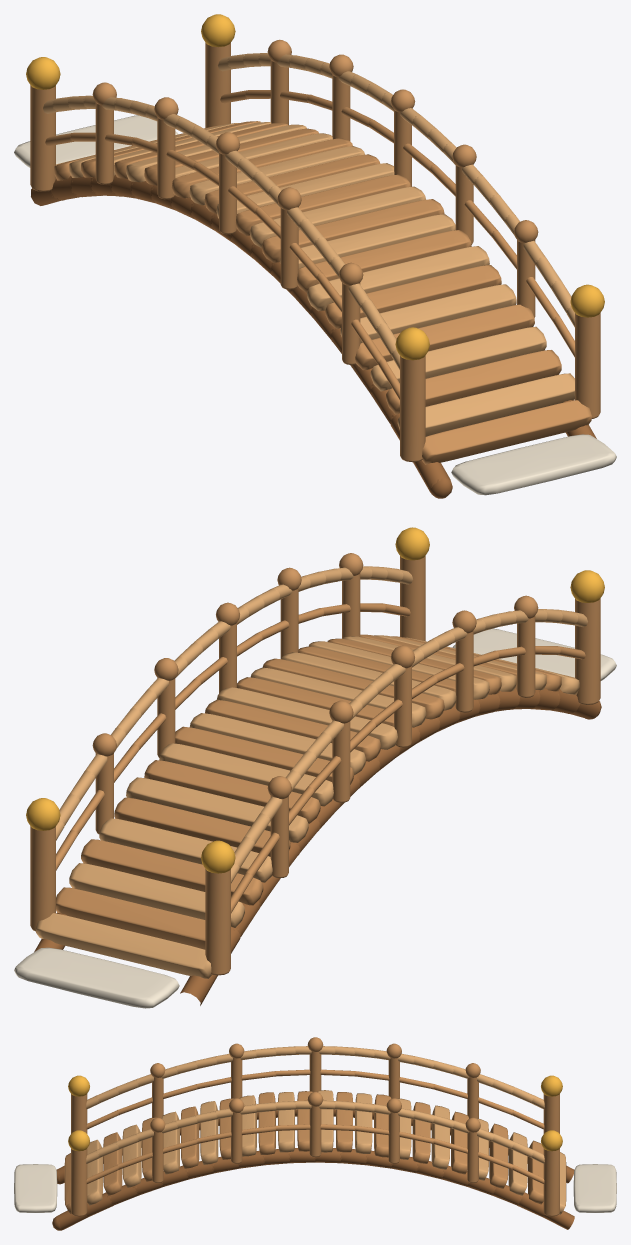
File: bridge.glb
3 renders of one model, top to bottom at view 1: azimuth 30°, elevation 25°; view 2: azimuth 150°, elevation 25°; view 3: azimuth 270°, elevation 25°, orthographic. The views are drawn at different scales.
Visible parts, largest first — view 1: bridge; view 2: bridge; view 3: bridge.
Part boxes in pixels (box(x1,y1,x2,y2)): bridge: box(14, 14, 616, 498); bridge: box(14, 527, 616, 1008); bridge: box(14, 1037, 616, 1230).
Size of the model in its own units: 1.57 by 1.62 by 6.25.
1 material, 1 textured.
